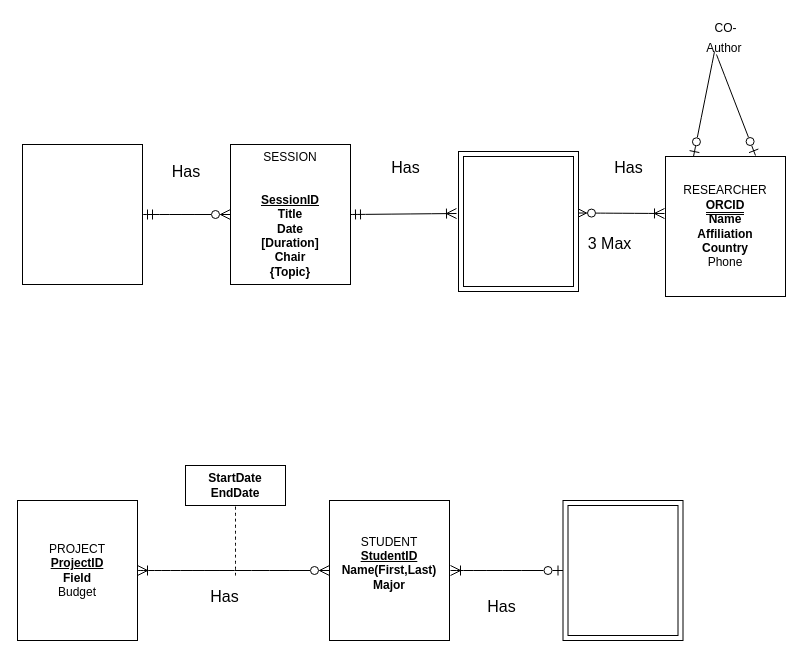
Image size: 803x658. Some labels were removed from this diagram. The box of each missing label's shape, as (x1, y1, x2, y2) in pixels:
CONFERENCE ConferenceID Name Year Location(City,Country): (22, 144, 142, 284)
LOCATION LocationID City State Country: (562, 500, 683, 640)
PRESENTATION PresentationID Title Abstract Duration: (458, 150, 578, 292)
